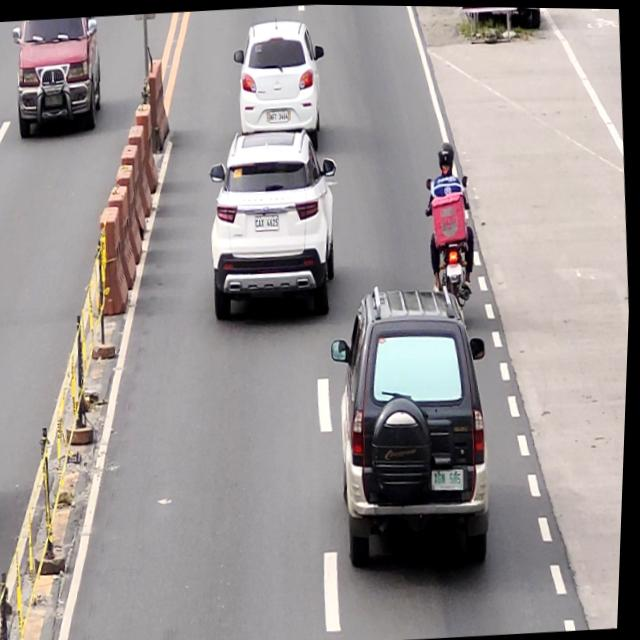Car: (324, 275, 504, 576), (202, 124, 348, 322), (229, 15, 332, 157)
License-Plate: (434, 465, 469, 493), (255, 213, 281, 232), (268, 109, 290, 124), (448, 260, 464, 275)
Motorcycle: (424, 170, 481, 311)
